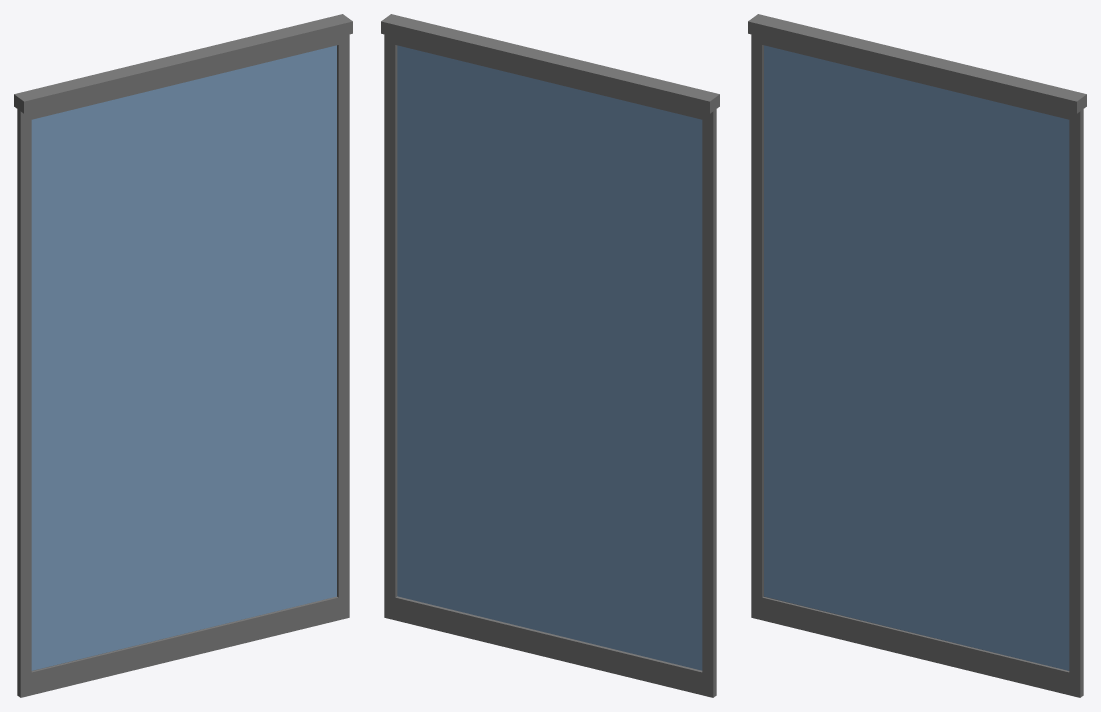
The model's file is SM_Panel.FBX.
The picture shows the model from 3 angles, left to right: view 1: azimuth 30°, elevation 25°; view 2: azimuth 150°, elevation 25°; view 3: azimuth 330°, elevation 25°; orthographic projection.
Parts seen in each view (by area): view 1: SM_Panel; view 2: SM_Panel; view 3: SM_Panel.
Part boxes in pixels (x1,y1,x2,y2): SM_Panel: (14,14,352,697); SM_Panel: (381,14,719,697); SM_Panel: (748,14,1086,697).
Bounding box in the file's own units: 299 × 520 × 15.95.
